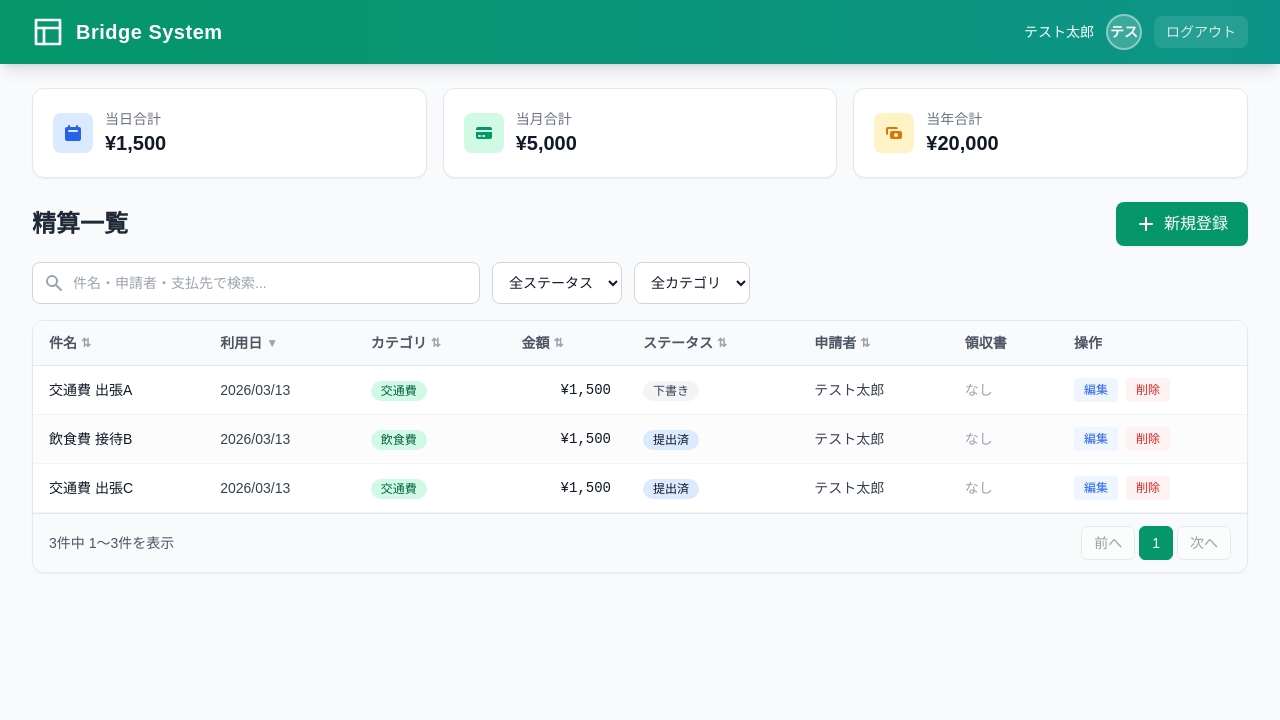
ExpenseList › フィルター › クリアボタンでフィルターがリセットされる
Select "下書き" in the dropdown showing "全ステータス" at (557, 283), box [492, 262, 622, 304]
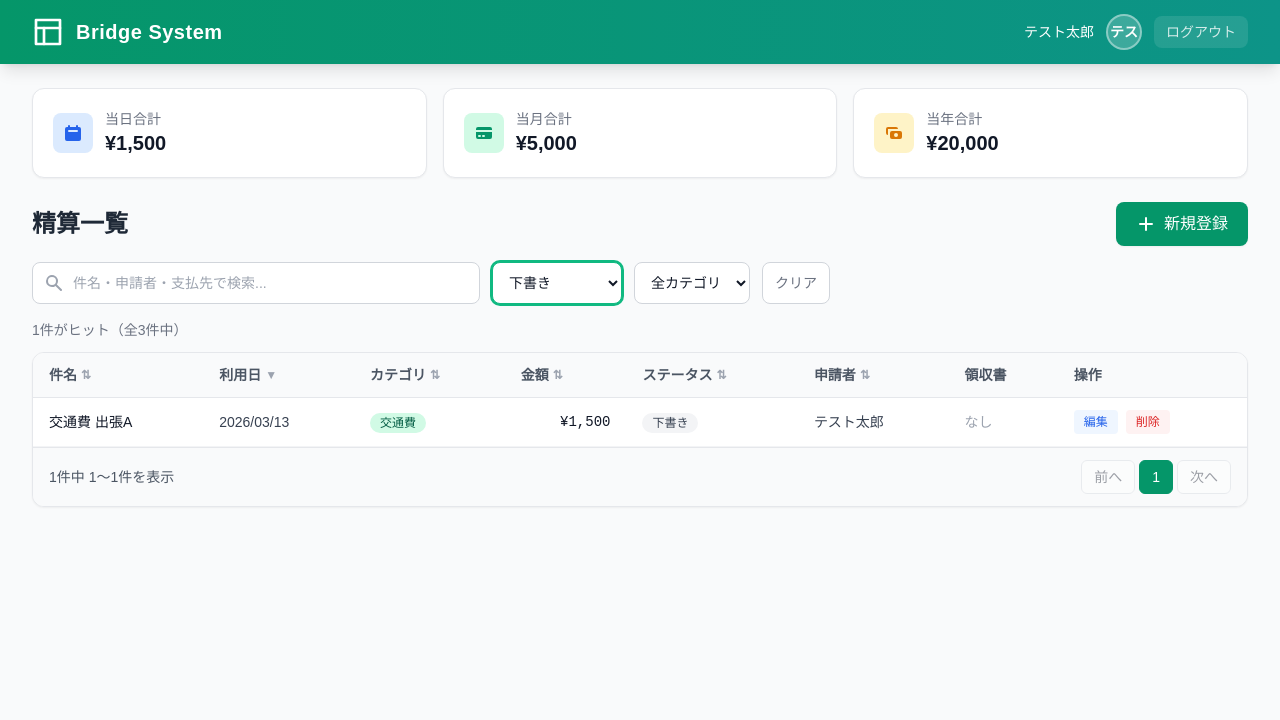
Expected: the text "飲食費 接待B" is gone
Click the button "クリア".
click(796, 283)  # box [762, 262, 830, 304]
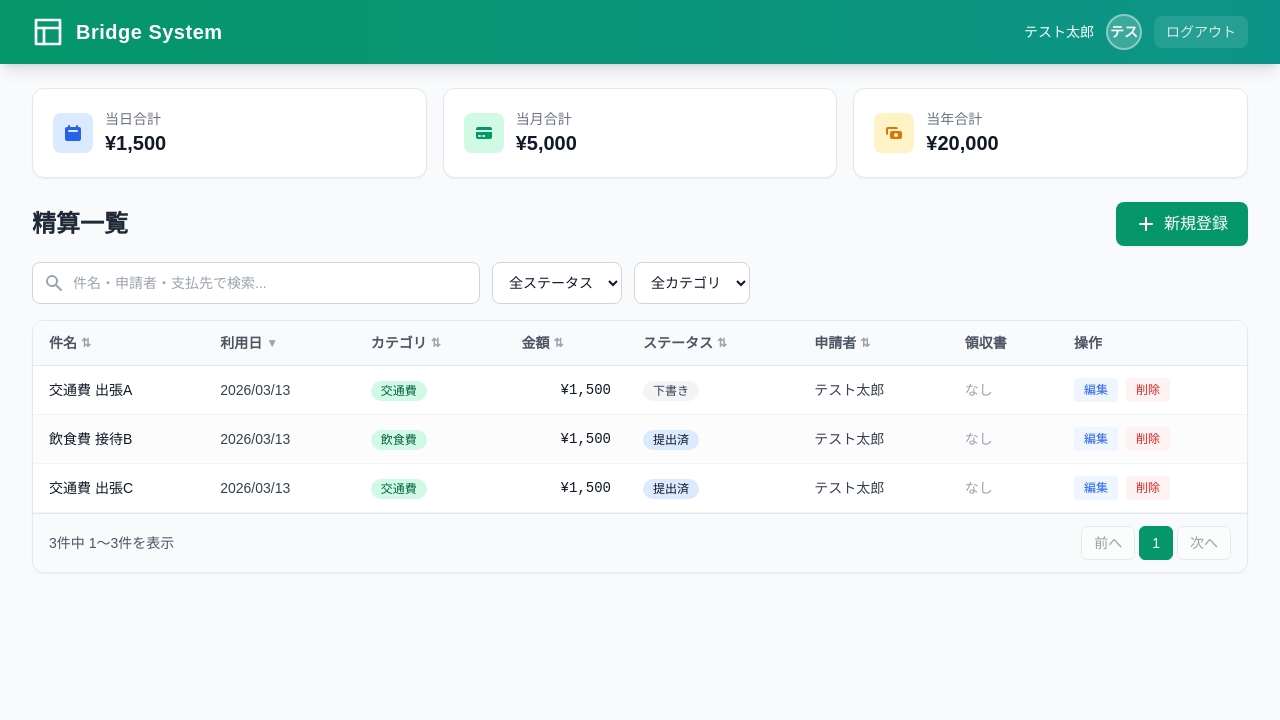
Expected: the text "交通費 出張A" is shown, [33, 366, 204, 414]
Expected: the text "飲食費 接待B" is shown, [33, 414, 204, 464]
